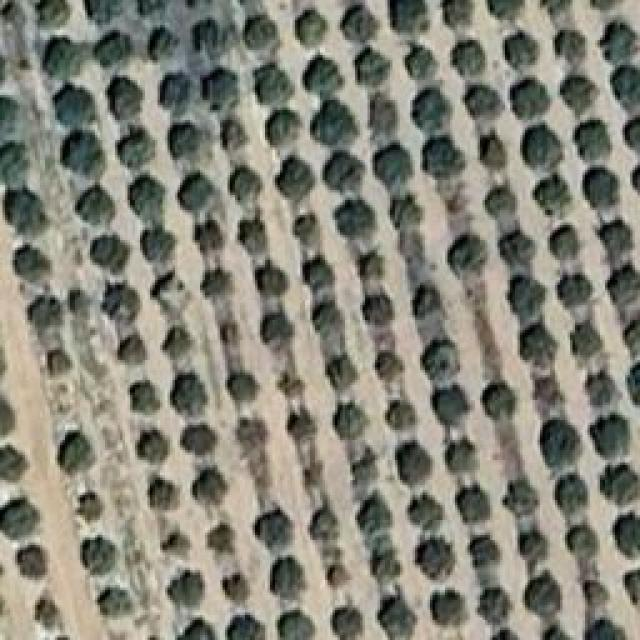Tree: (313, 100, 359, 147), (5, 190, 48, 235), (53, 85, 96, 130), (542, 420, 580, 470), (43, 38, 88, 80), (63, 130, 104, 176), (423, 135, 466, 178), (378, 595, 418, 640), (590, 415, 630, 460), (130, 175, 166, 225), (523, 125, 562, 171), (413, 88, 452, 134), (507, 275, 545, 322), (375, 142, 414, 187), (275, 155, 314, 200), (525, 572, 563, 617), (153, 273, 189, 320), (303, 55, 343, 97), (415, 538, 455, 579), (323, 154, 364, 194), (423, 338, 462, 380), (520, 323, 558, 366), (395, 440, 431, 485), (0, 498, 40, 538), (75, 185, 115, 225), (510, 80, 550, 120), (448, 235, 487, 276), (533, 175, 572, 216), (255, 63, 294, 104), (432, 385, 470, 427), (600, 23, 638, 65), (118, 128, 157, 168), (575, 120, 613, 161), (370, 93, 399, 146), (255, 510, 293, 550), (602, 465, 640, 505), (177, 172, 215, 212), (335, 200, 376, 237), (173, 373, 209, 415), (203, 68, 239, 110), (607, 265, 640, 310), (358, 493, 393, 535), (600, 220, 634, 263), (110, 78, 144, 121), (560, 75, 596, 115), (93, 33, 133, 69), (585, 168, 620, 208), (270, 558, 303, 600), (60, 433, 93, 475), (160, 73, 193, 115), (503, 480, 539, 518), (12, 245, 50, 281), (343, 5, 379, 43), (455, 485, 490, 524), (168, 570, 204, 607), (500, 230, 536, 267), (408, 493, 443, 531), (483, 383, 518, 421), (103, 283, 138, 321), (355, 48, 390, 86), (555, 474, 588, 514), (570, 322, 603, 362), (93, 235, 128, 272), (265, 110, 300, 147), (535, 375, 565, 418), (390, 0, 430, 32), (612, 512, 640, 557), (193, 468, 228, 504), (612, 65, 640, 110), (430, 590, 464, 627), (505, 33, 539, 70), (465, 85, 503, 118), (0, 143, 29, 186), (28, 297, 63, 332), (243, 15, 278, 50), (453, 40, 487, 76), (230, 165, 263, 202), (295, 10, 328, 47), (143, 227, 177, 262), (255, 260, 288, 296), (170, 123, 203, 159), (85, 535, 116, 573), (335, 404, 369, 438), (558, 275, 593, 308), (390, 195, 423, 230), (405, 45, 438, 80), (478, 588, 509, 625), (328, 355, 359, 391), (518, 530, 548, 567), (550, 225, 580, 262), (235, 418, 268, 451), (485, 185, 518, 218), (445, 437, 476, 472), (183, 425, 218, 456), (303, 257, 334, 292), (98, 588, 132, 619), (18, 545, 48, 580), (373, 547, 403, 582), (148, 27, 178, 62), (585, 374, 615, 408), (310, 505, 339, 540), (413, 285, 442, 320), (240, 220, 269, 255), (0, 445, 28, 481), (470, 535, 500, 568), (263, 310, 293, 343), (570, 525, 598, 560), (353, 448, 379, 485), (480, 133, 506, 170), (555, 30, 585, 62), (140, 430, 169, 463), (195, 220, 224, 253), (227, 615, 265, 640), (385, 400, 416, 430), (288, 410, 317, 442), (163, 328, 192, 360), (228, 372, 258, 402), (313, 303, 342, 334), (118, 334, 147, 364), (150, 478, 176, 511), (193, 20, 219, 53), (335, 610, 363, 640), (132, 385, 160, 415), (202, 267, 230, 297), (85, 0, 121, 23), (375, 353, 404, 381), (40, 0, 70, 27), (223, 120, 249, 151), (585, 620, 625, 640), (223, 572, 249, 602), (208, 522, 234, 552), (358, 250, 384, 280), (35, 598, 59, 630), (177, 620, 215, 640), (443, 0, 471, 27), (280, 615, 310, 640), (78, 492, 103, 522), (365, 298, 391, 326), (295, 218, 319, 248), (0, 98, 18, 136), (487, 0, 523, 19), (163, 532, 189, 557), (48, 350, 73, 376), (278, 372, 304, 397), (588, 580, 611, 607), (68, 290, 91, 315), (625, 320, 640, 358), (0, 394, 14, 434), (627, 362, 640, 405), (328, 565, 352, 588), (625, 570, 640, 605), (625, 118, 640, 151), (303, 464, 322, 488), (138, 0, 165, 16), (542, 625, 570, 640), (540, 0, 570, 14), (492, 628, 520, 640), (223, 325, 238, 345), (590, 0, 616, 10), (15, 56, 31, 72), (0, 0, 11, 21), (632, 165, 640, 193), (185, 0, 213, 8)
